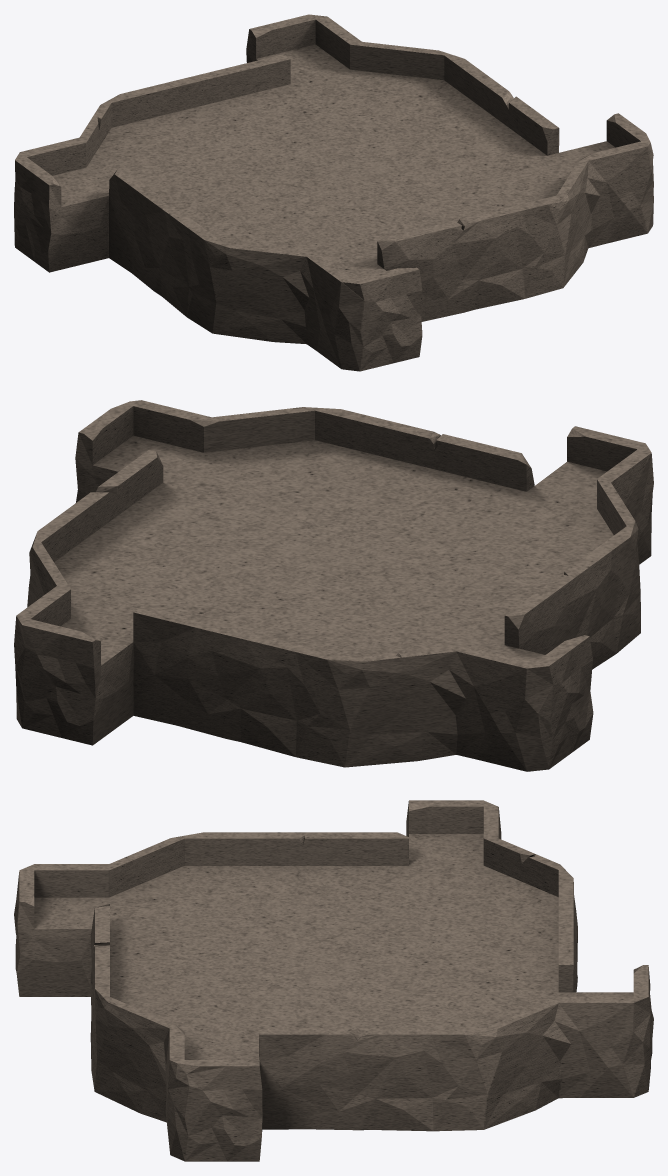
The model's file is jail2.fbx.
The picture shows the model from 3 angles, top to bottom: view 1: azimuth 30°, elevation 25°; view 2: azimuth 150°, elevation 25°; view 3: azimuth 270°, elevation 25°; orthographic projection. The views are drawn at different scales.
Parts seen in each view (by area): view 1: Jail; view 2: Jail; view 3: Jail.
Boxes of the visible parts, x1,y1,x2,y2 form: Jail: [14, 14, 653, 371]; Jail: [14, 400, 653, 771]; Jail: [14, 800, 653, 1161].
Size of the model in its own units: 854 by 140 by 854.
